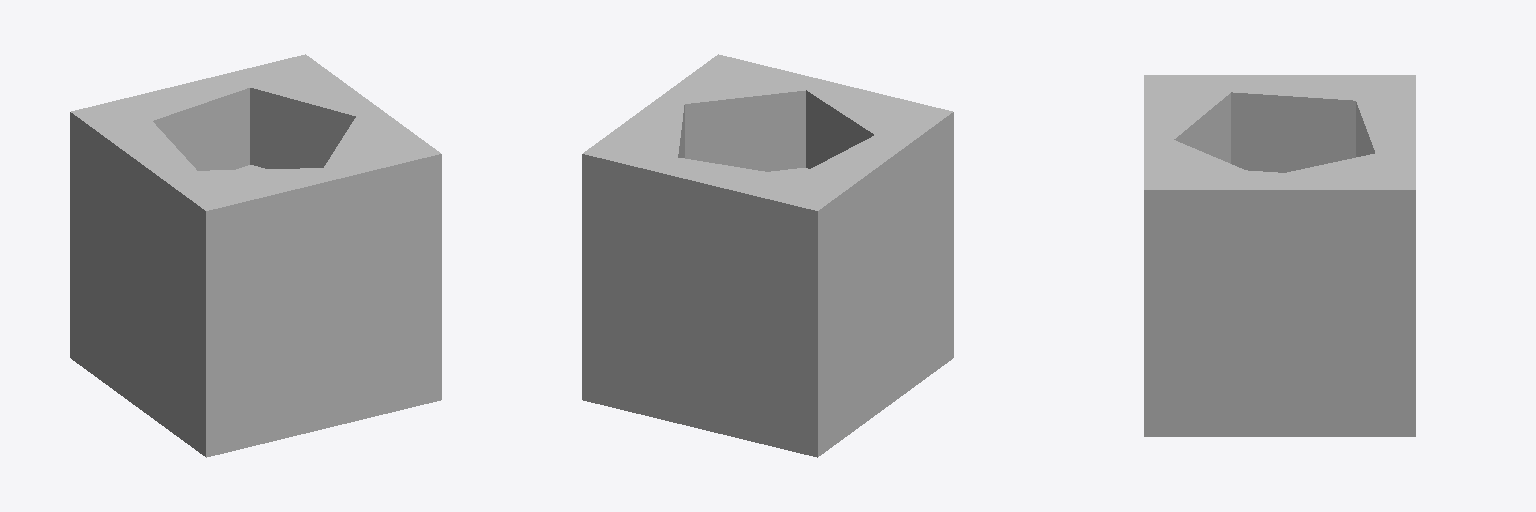
File: Pentagon_cube_bottle_rotated45_preprocessed.obj
3 views of the same model, side by side, from view 1: azimuth 30°, elevation 25°; view 2: azimuth 150°, elevation 25°; view 3: azimuth 270°, elevation 25° (orthographic).
Size of the model in its own units: 0.08 by 0.08 by 0.08.